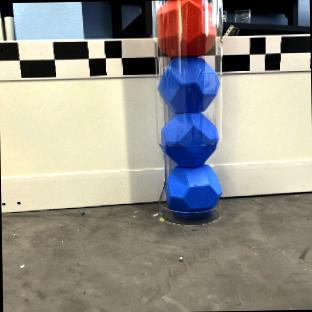V5_BLUE: (158, 55, 219, 112), (161, 112, 218, 164), (166, 165, 221, 217)
V5_RED: (157, 0, 215, 58)
